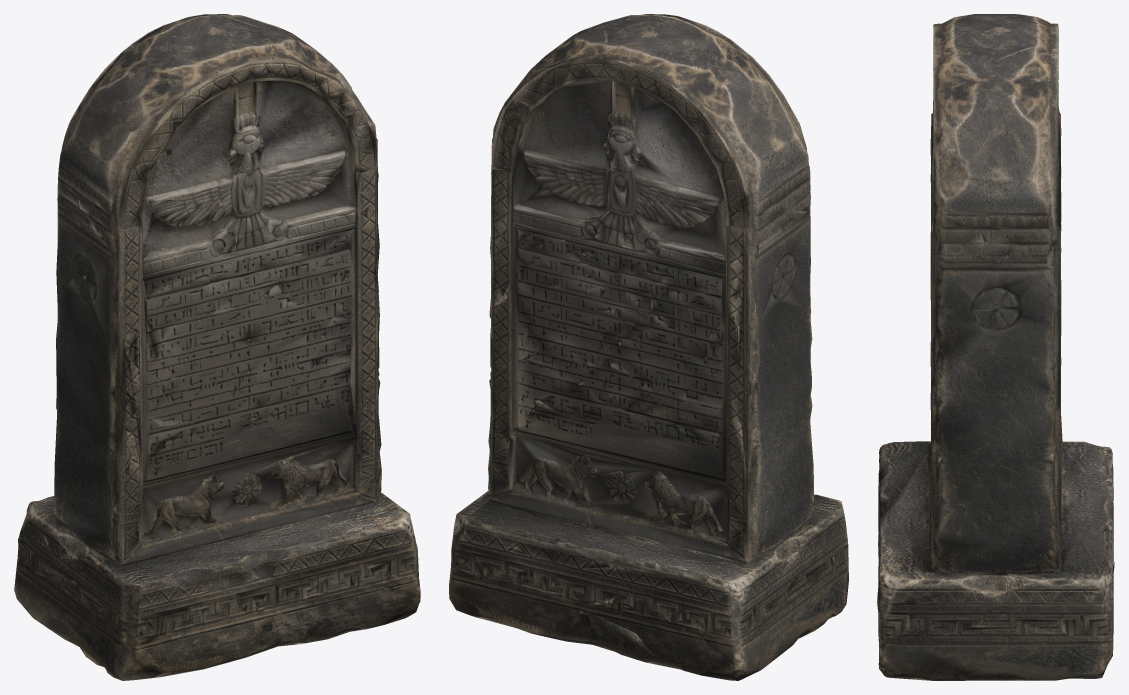
File: city_van_urartu_stele.glb
3 renders of one model, left to right at view 1: azimuth 30°, elevation 25°; view 2: azimuth 150°, elevation 25°; view 3: azimuth 270°, elevation 25°, orthographic.
Parts seen in each view (by area): view 1: Mesh1.0; view 2: Mesh1.0; view 3: Mesh1.0.
Boxes of the visible parts, x1=… form: Mesh1.0: x1=14, y1=14, x2=420, y2=680; Mesh1.0: x1=449, y1=14, x2=848, y2=680; Mesh1.0: x1=877, y1=14, x2=1114, y2=680.
Size of the model in its own units: 1.4 by 2.6 by 0.9643.
Materials: 1 (1 with a texture image).
